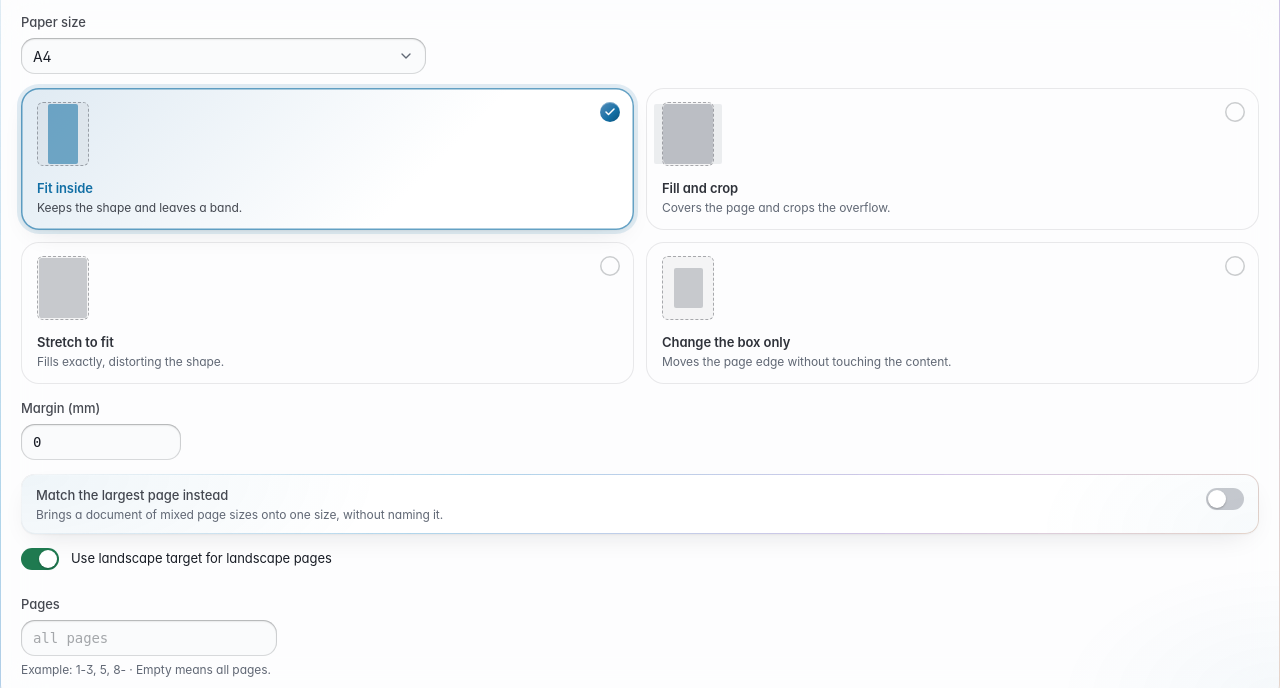
it: ResizeTab quick sizes › disables the quick sizes while matching the largest page
(page scrolled)
Click the switch named "Match the largest page" at coordinates (1225, 504), box [1206,488,1244,520]
(page scrolled)
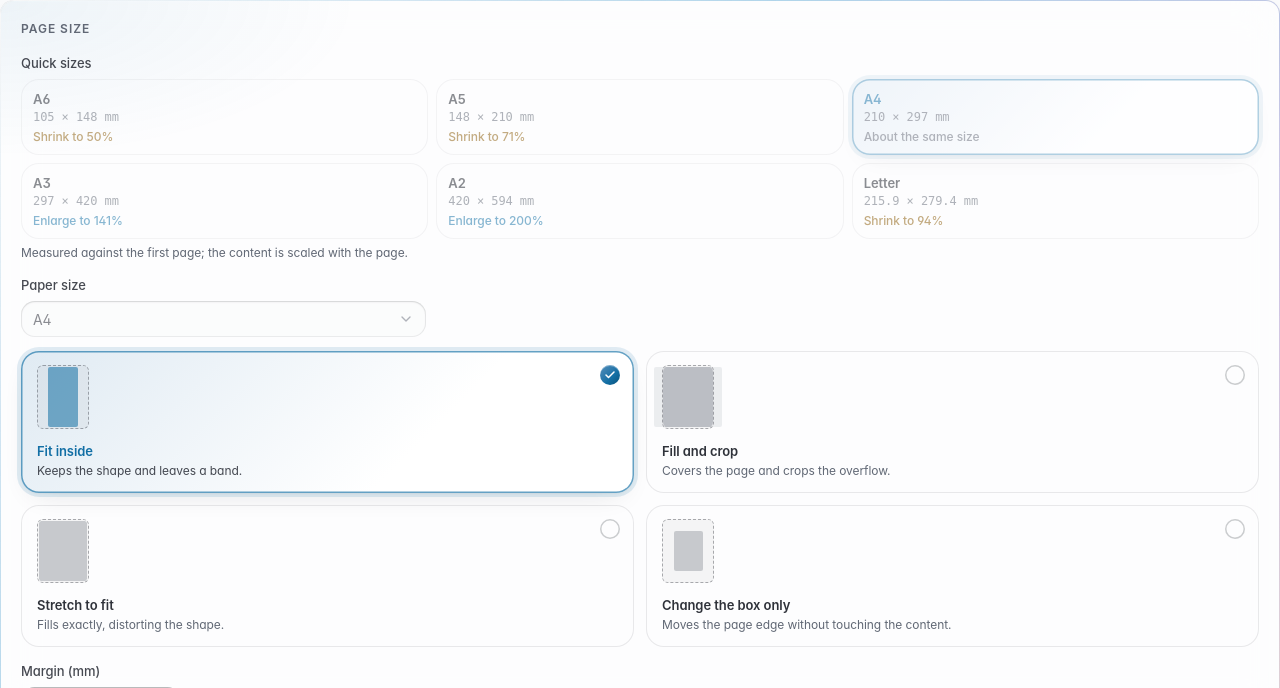
Expected: the radio button labelled "A5 148 × 210 mm Shrink to 71%" is disabled, [436,79,844,155]
